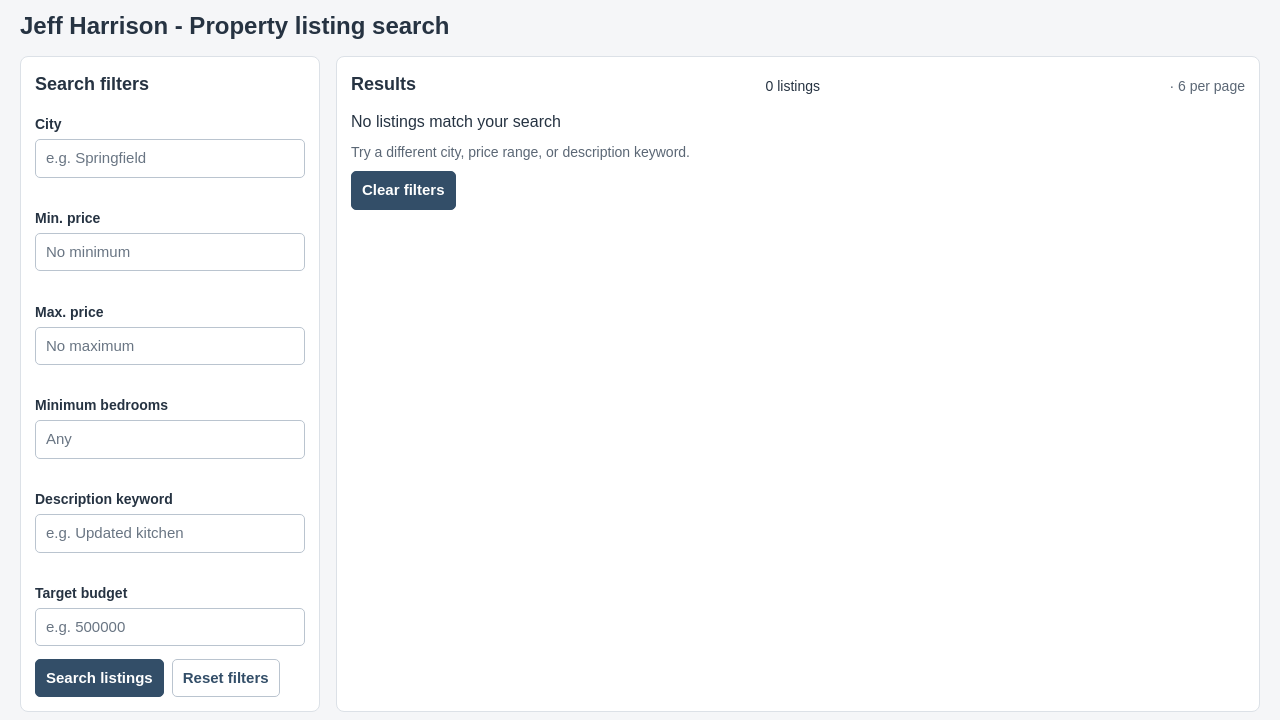
it: listing search › shows no results and can clear filters
Expected: the text "No listings match your search" is shown, x1=351 y1=113 x2=561 y2=130
Type "Atlantis" into the field labelled "City" at (170, 158), box x1=35 y1=139 x2=305 y2=178
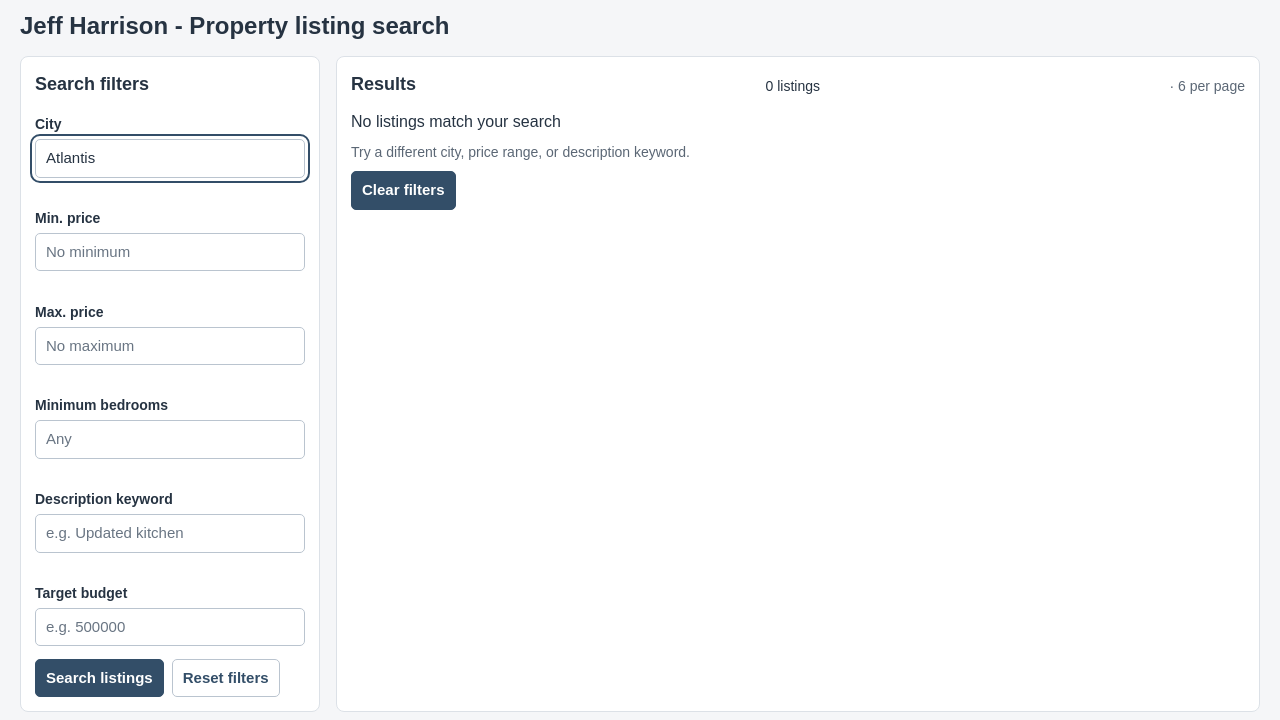
Click the button "Clear filters" at (403, 190), box x1=351 y1=171 x2=456 y2=210
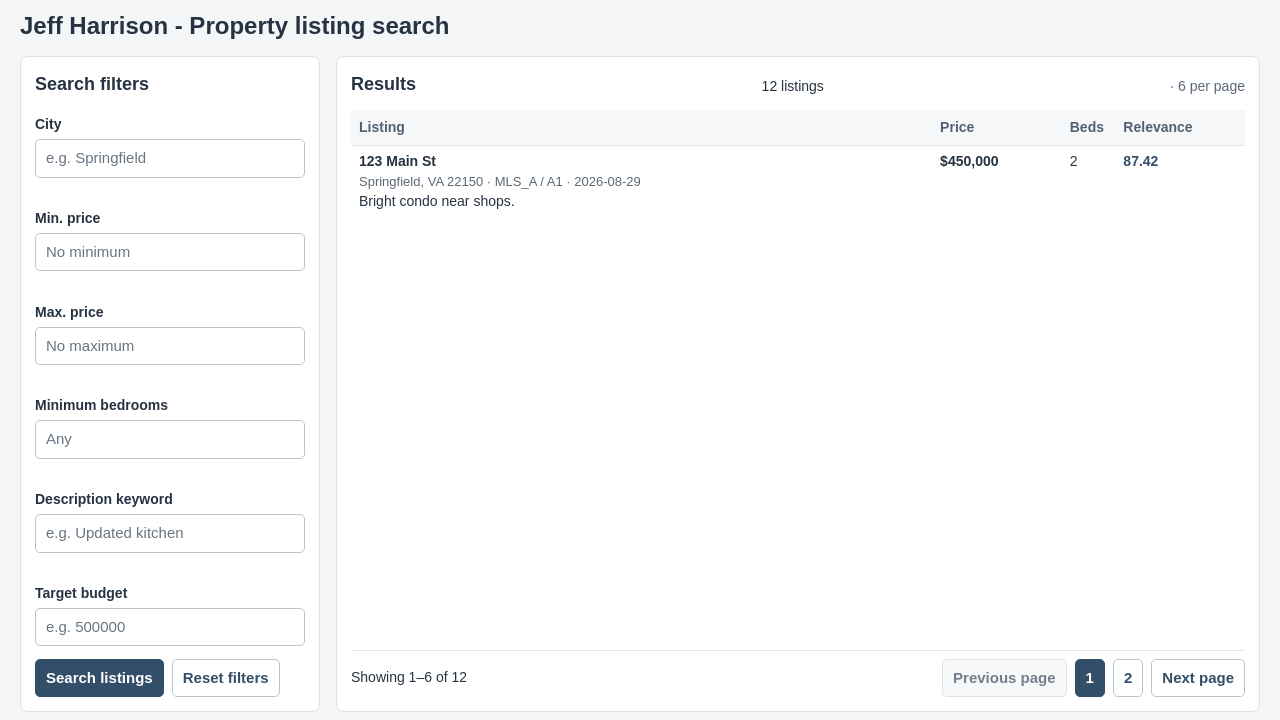
Now the table named "Listing results" is shown, box x1=351 y1=110 x2=1245 y2=650
Now the field labelled "City" is empty, box x1=35 y1=139 x2=305 y2=178
